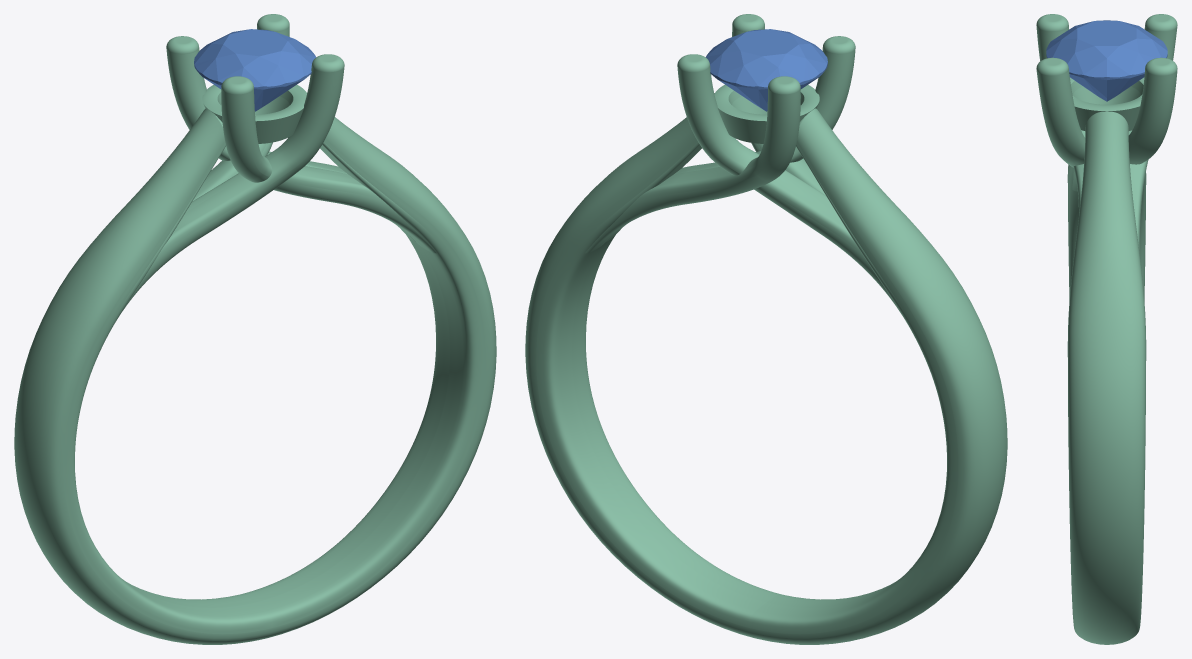
The picture shows the model from 3 angles, left to right: view 1: azimuth 30°, elevation 25°; view 2: azimuth 150°, elevation 25°; view 3: azimuth 270°, elevation 25°; orthographic projection.
Visible parts, largest first — view 1: mp -22.3dm, Gem; view 2: mp -22.3dm, Gem; view 3: mp -22.3dm, Gem.
Part boxes in pixels (x1=…): mp -22.3dm: x1=14, y1=14, x2=496, y2=644; Gem: x1=194, y1=29, x2=316, y2=111; mp -22.3dm: x1=525, y1=14, x2=1007, y2=644; Gem: x1=705, y1=29, x2=827, y2=111; mp -22.3dm: x1=1036, y1=14, x2=1177, y2=644; Gem: x1=1046, y1=20, x2=1167, y2=101.
Size of the model in its own units: 2.51 by 3.04 by 0.6639.
